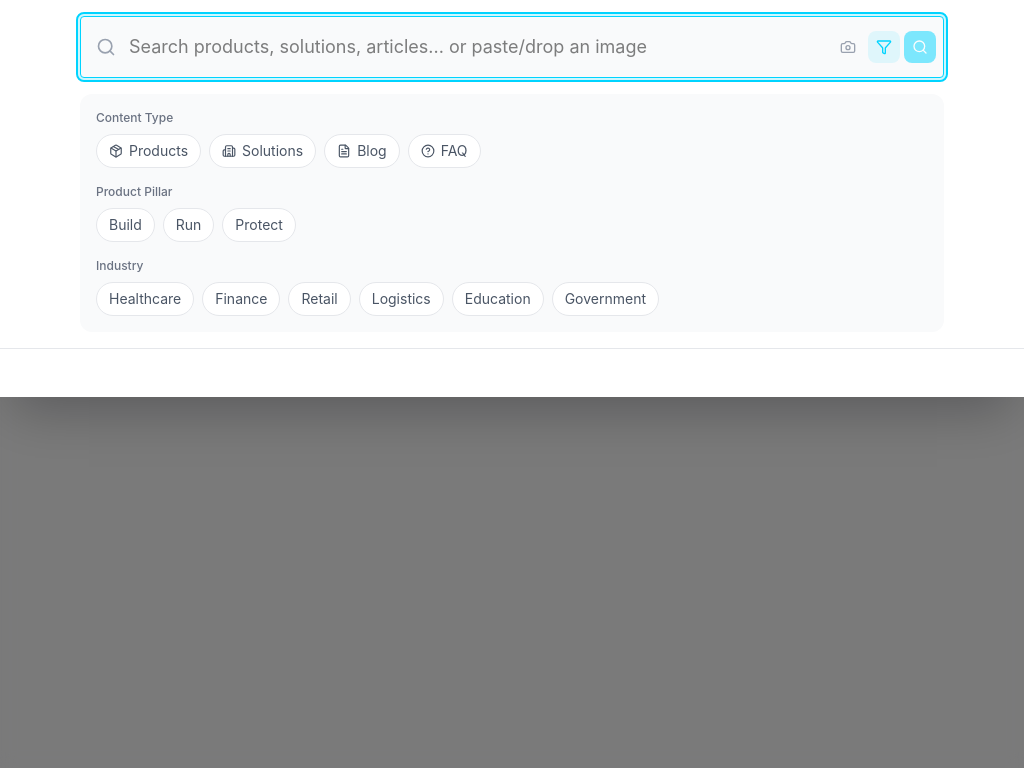
Test: GlobalSearch › performs a search and renders internal results
Replace the text in the field with placeholder "Search products, solutions" with "hci" at (512, 47), box [80,16,944,78]
(page scrolled)
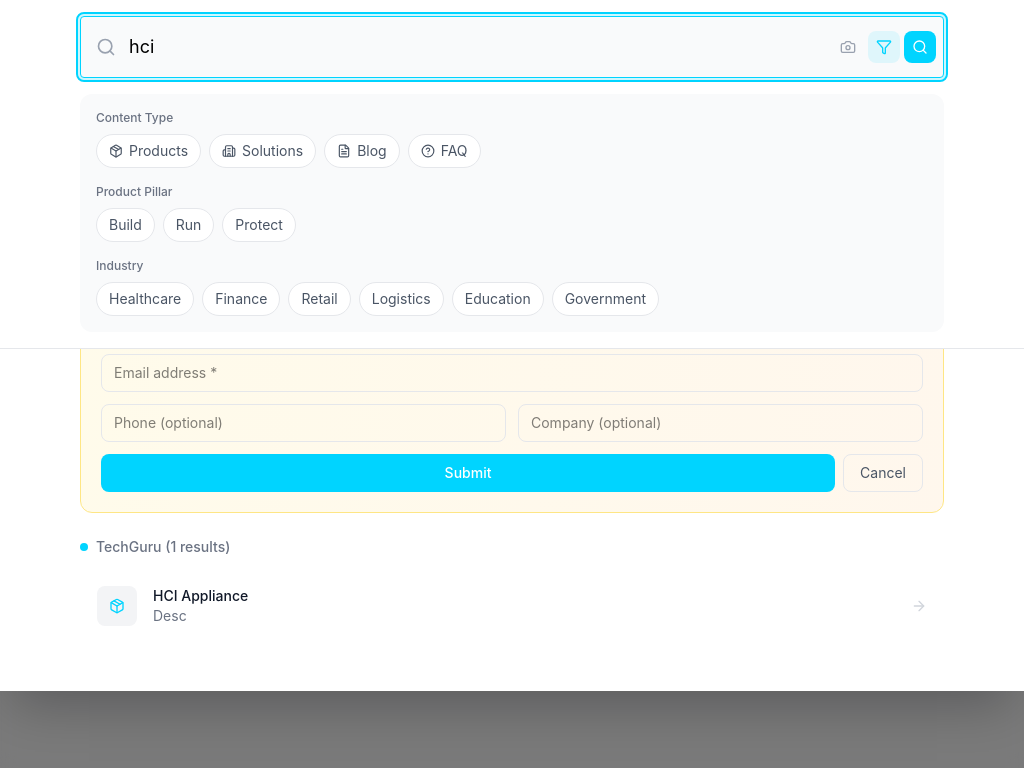
Expected: the text "HCI Appliance" is shown, [153,587,248,604]
